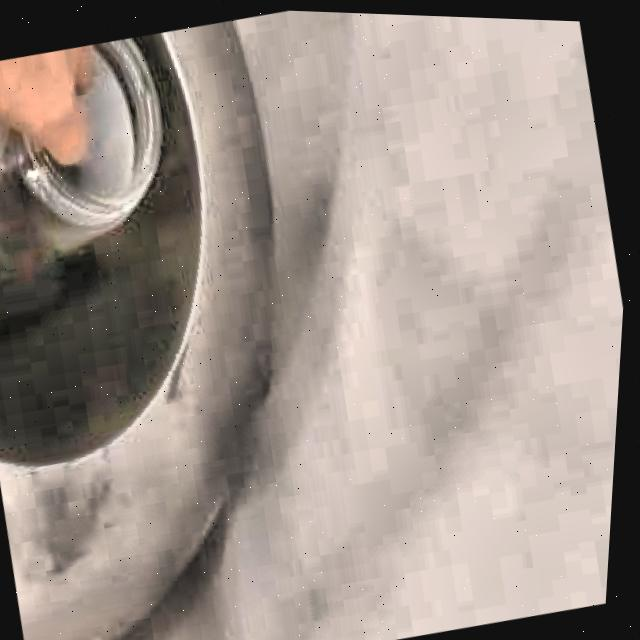glass: (0, 37, 161, 277)
